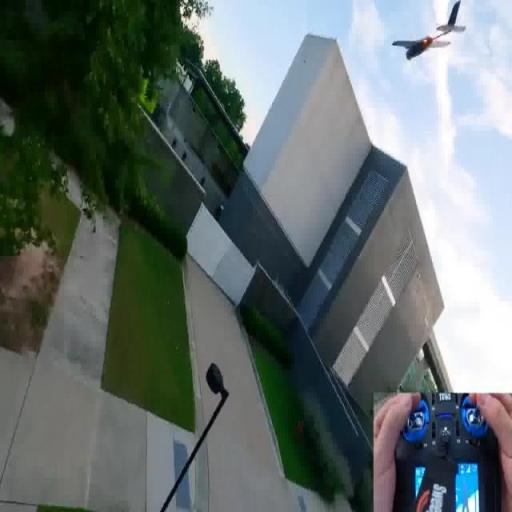uav: (390, 2, 470, 72)
